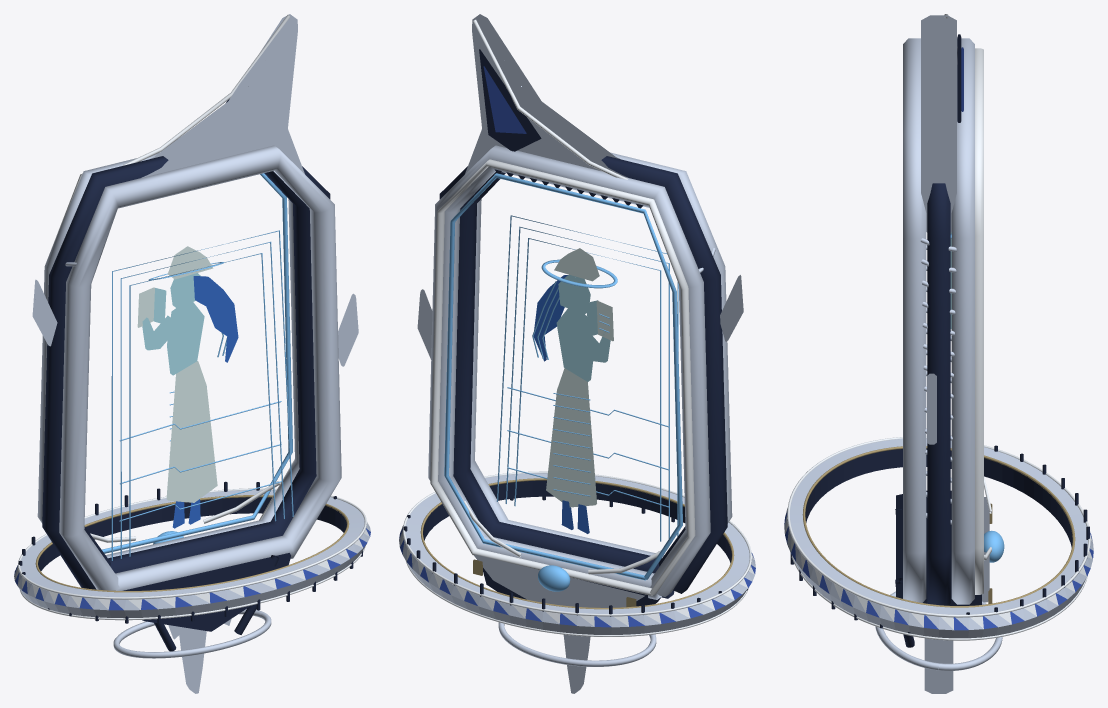
The model's file is frame_signature.obj.
3 renders of one model, left to right at view 1: azimuth 30°, elevation 25°; view 2: azimuth 150°, elevation 25°; view 3: azimuth 270°, elevation 25°, orthographic. The views are drawn at different scales.
Parts seen in each view (by area): view 1: frame_signature; view 2: frame_signature; view 3: frame_signature.
Part boxes in pixels (x1,y1,x2,y2): frame_signature: [14, 14, 370, 693]; frame_signature: [399, 14, 755, 693]; frame_signature: [784, 14, 1093, 693].
Size of the model in its own units: 0.6171 by 1.16 by 0.4443.
